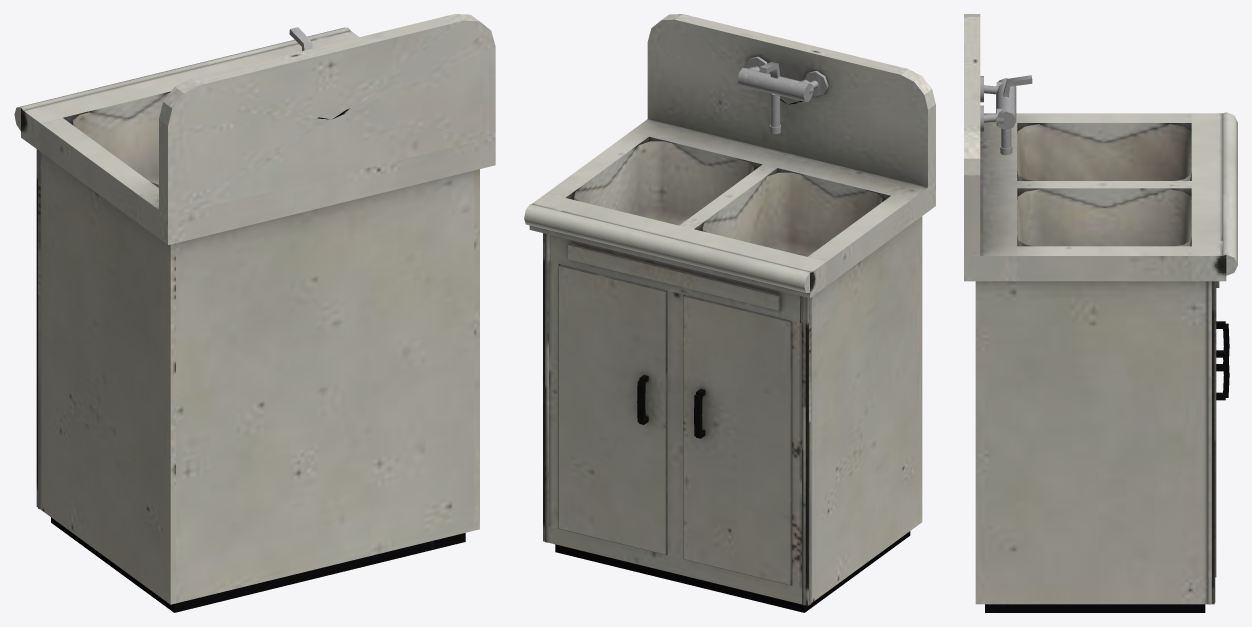
Rendered from sink_backsplash_lod1_web.glb.
The picture shows the model from 3 angles, left to right: view 1: azimuth 30°, elevation 25°; view 2: azimuth 150°, elevation 25°; view 3: azimuth 270°, elevation 25°; orthographic projection. The views are drawn at different scales.
Visible parts, largest first — view 1: SinkBacksplash_Body; view 2: SinkBacksplash_Body, Door_R_Mesh, Door_L_Mesh, Chrome_FaucetBody; view 3: SinkBacksplash_Body, Chrome_FaucetBody, Door_L_Mesh.
Boxes of the visible parts, left/top/right/bottom form: SinkBacksplash_Body: left=14, top=14, right=495, bottom=612; SinkBacksplash_Body: left=524, top=14, right=935, bottom=612; Door_R_Mesh: left=683, top=295, right=792, bottom=584; Door_L_Mesh: left=559, top=264, right=667, bottom=554; Chrome_FaucetBody: left=737, top=56, right=828, bottom=101; SinkBacksplash_Body: left=964, top=14, right=1237, bottom=612; Chrome_FaucetBody: left=980, top=75, right=1032, bottom=131; Door_L_Mesh: left=1215, top=288, right=1229, bottom=577.
Bounding box in the file's own units: 0.72 × 1.12 × 0.585.
Materials: 2 (2 with a texture image).
